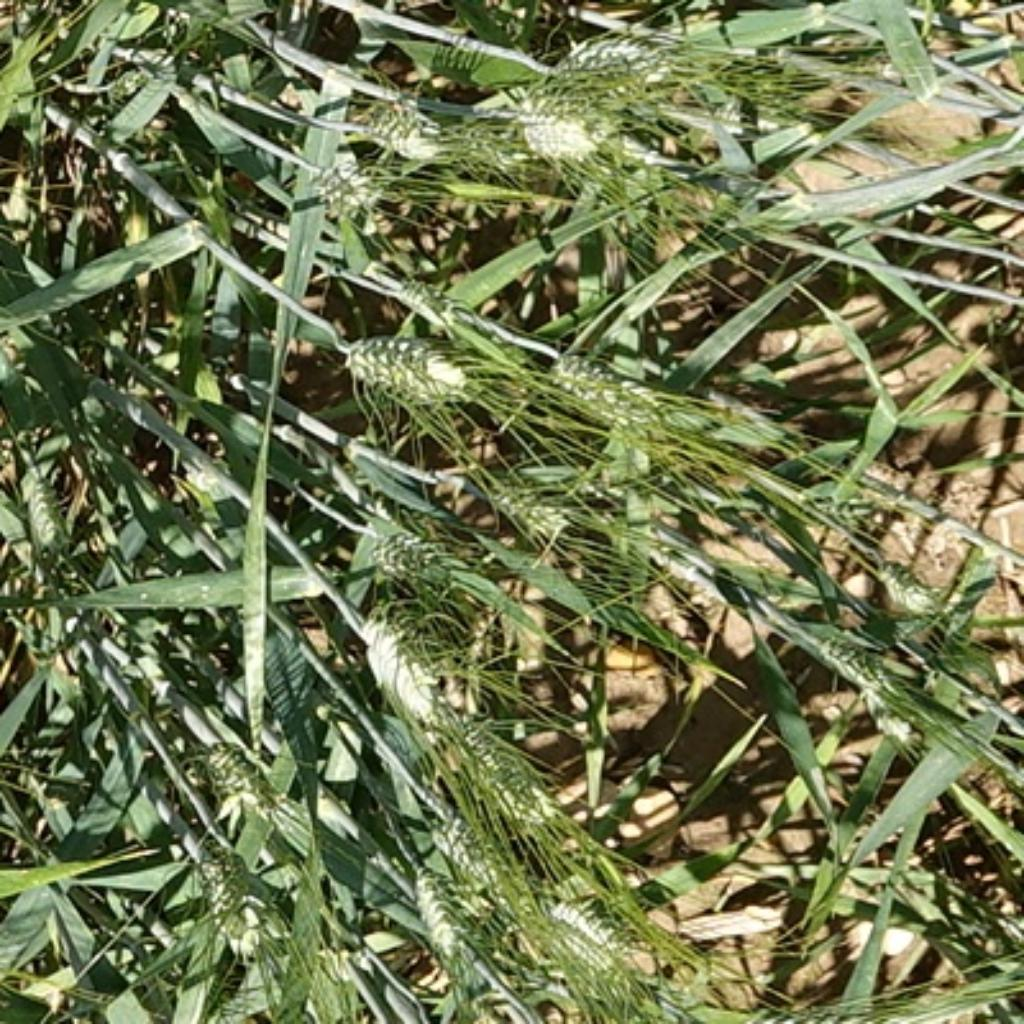0-0: (433, 707, 577, 841), (540, 330, 683, 442), (417, 803, 535, 934), (174, 824, 289, 957), (335, 312, 473, 409), (532, 881, 652, 990), (350, 606, 458, 727), (560, 33, 704, 110), (399, 860, 481, 977), (750, 985, 992, 1024), (506, 76, 614, 161), (2, 455, 76, 568), (184, 724, 281, 808), (358, 506, 458, 586), (870, 550, 965, 629), (478, 458, 570, 532), (360, 92, 450, 166), (302, 138, 384, 215), (812, 630, 898, 696), (860, 684, 914, 740), (389, 263, 453, 309)
